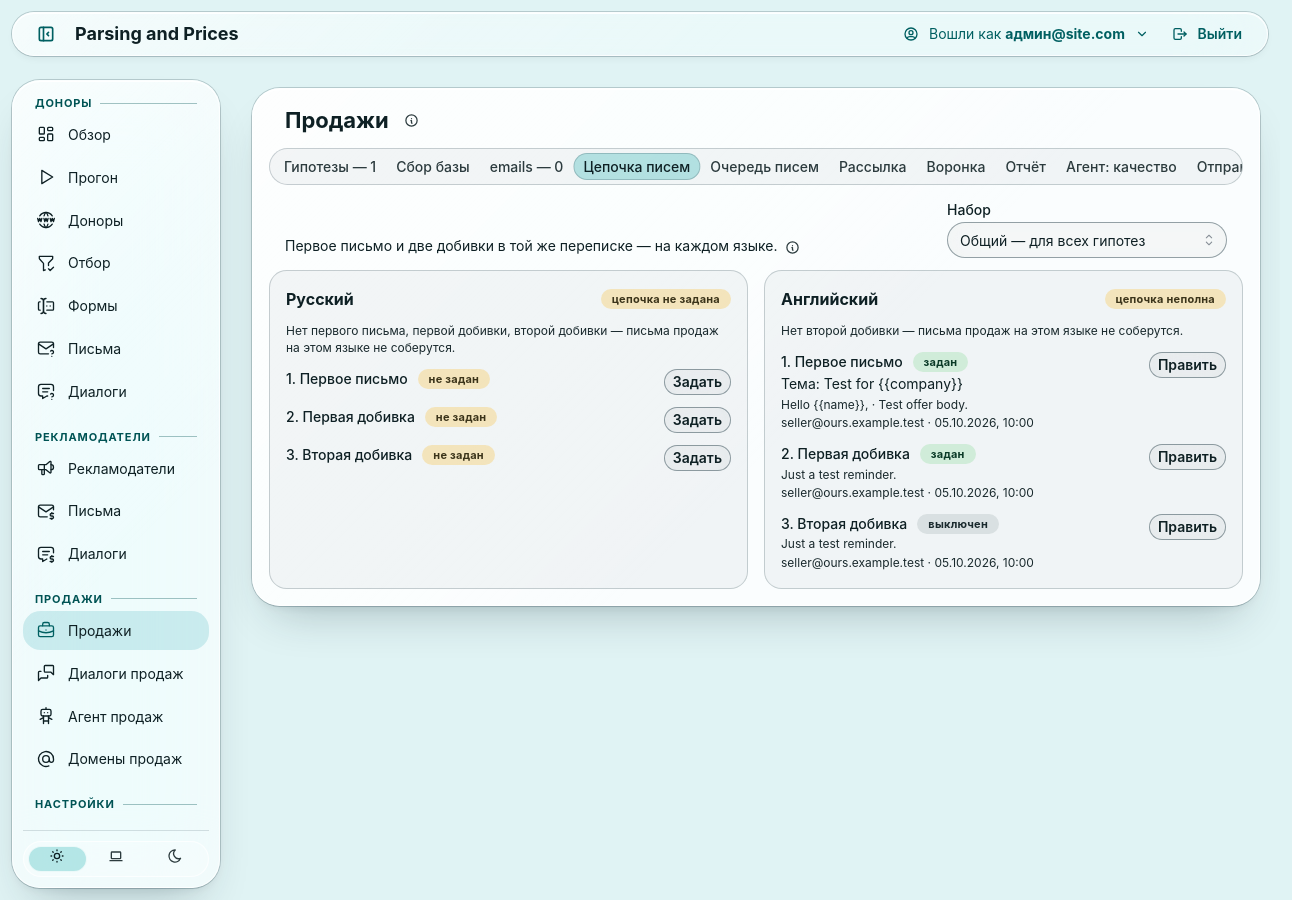
Scenario: цепочка писем: языки и шаги › вступление — одной строкой, где живут тексты и чья цепочка — в «i» (аудит 09.10.2026)
expect the heading "Английский" is shown: met, box left=781, top=287, right=878, bottom=311
expect the text "Первое письмо и две добивки" is shown: met, box left=285, top=237, right=778, bottom=254
Step 1. Hover over the button named "Где живут тексты и чья цепочка действует" → (792, 247), box left=782, top=236, right=804, bottom=258
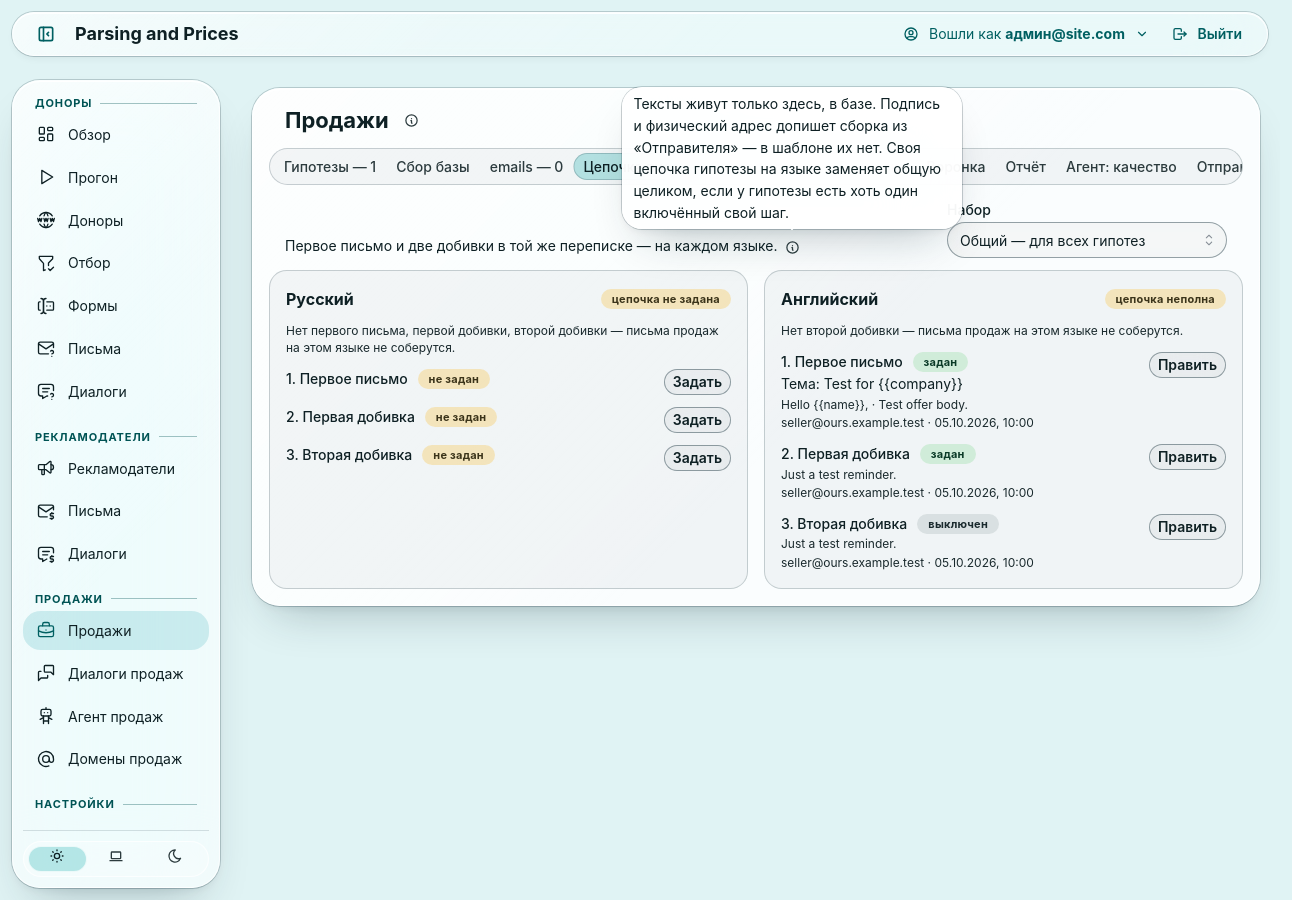
expect the tooltip "Своя цепочка гипотезы на языке заменяет общую" is shown: met, box left=634, top=95, right=941, bottom=221
